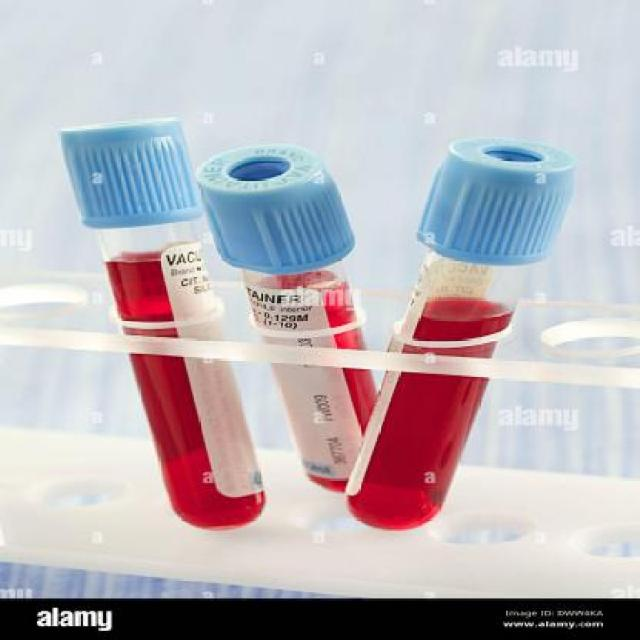Experimental-tube: (344, 134, 578, 528), (64, 117, 268, 529), (200, 143, 389, 494)
